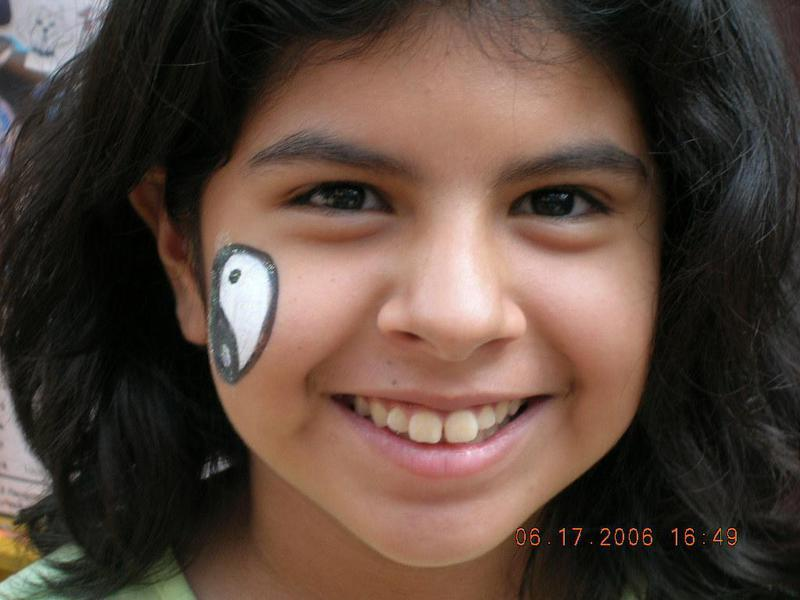person: (34, 1, 793, 600)
